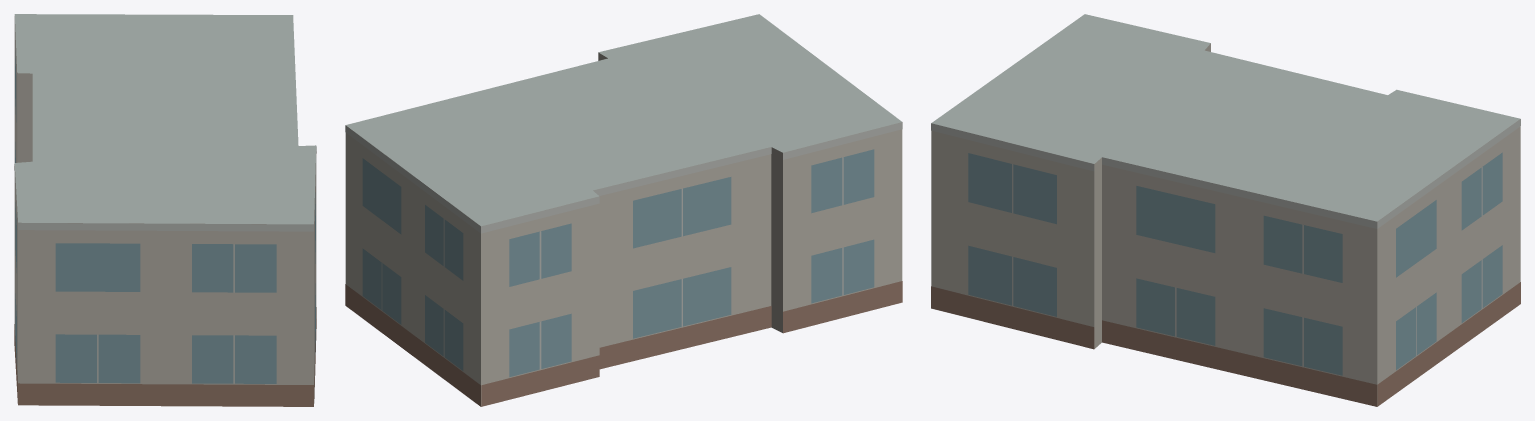
Rendered from survey-upis-32913995.glb.
The picture shows the model from 3 angles, left to right: view 1: azimuth 30°, elevation 25°; view 2: azimuth 150°, elevation 25°; view 3: azimuth 270°, elevation 25°; orthographic projection. The views are drawn at different scales.
Parts seen in each view (by area): view 1: survey-upis-32913995.tmp; view 2: survey-upis-32913995.tmp; view 3: survey-upis-32913995.tmp.
Boxes of the visible parts, x1,y1,x2,y2 form: survey-upis-32913995.tmp: (14,14,316,406); survey-upis-32913995.tmp: (345,14,902,406); survey-upis-32913995.tmp: (931,14,1520,406).
Bounding box in the file's own units: 14.67 × 6.1 × 17.6.
